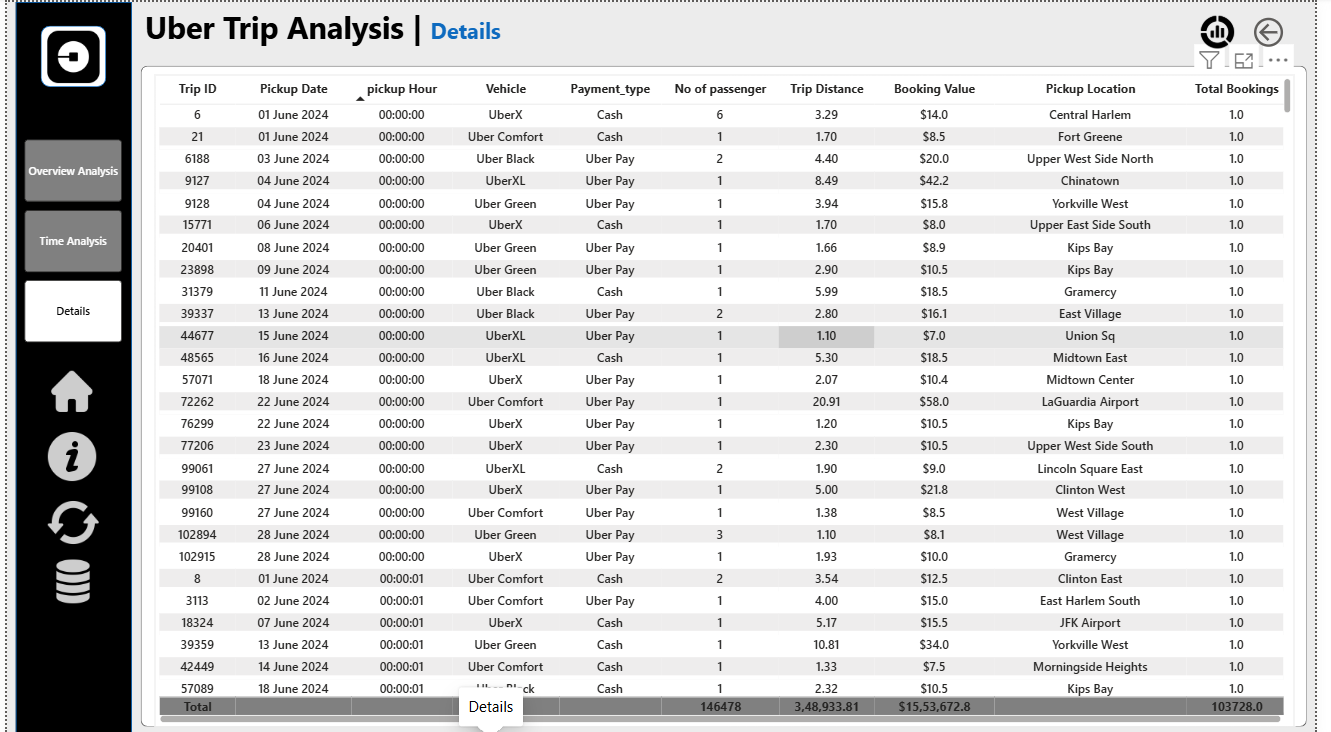

This screenshot's page, from the dashboard's own definition file:
{"tool":"powerbi","page":{"name":"Details","canvas":[1600,900],"ordinal":2},"visuals":[{"type":"shape","box":[10.3,0,142,900.5],"z":0},{"type":"textbox","box":[163.6,0,694,103.9],"z":1000},{"type":"shape","box":[162.9,77.6,1425.9,808.4],"z":2000},{"type":"tableEx","fields":{"Values":["Trip Details.Trip ID","Trip Details.Pickup Date","Trip Details.pickup Hour (HH MM SS)","Trip Details.Vehicle","Trip Details.Payment_type","Sum(Trip Details.passenger_count)","Trip Details.Total Trip Distance Measure","Trip Details.Total Booking Value","Location Table.Location","Trip Details.Total Bookings"]},"box":[180,88.4,1394.9,797.5],"z":3000},{"type":"actionButton","box":[1519,14,68.3,46.5],"z":4000},{"type":"image","box":[1441.4,17.1,77.6,40.3],"z":5000},{"type":"shape","box":[41.3,29,80,74.9],"z":6000},{"type":"image","box":[41.3,35.2,79.5,64.2],"z":7000},{"type":"pageNavigator","box":[21.4,168.1,119.2,249.2],"z":8000},{"type":"image","box":[41.3,450.9,76.4,50.4],"z":8001},{"type":"image","box":[44.3,525.8,70.3,59.6],"z":8002},{"type":"image","box":[44.3,681.7,73.4,53.5],"z":8003},{"type":"image","box":[45.9,605.3,70.3,62.7],"z":8004}]}

Visuals, with their boxes on the page's 1600x900 design canvas (x1, y1, x2, y2). These are canvas units, not pixel positions in the 1331x732 screenshot, which may show the page scaled, cropped or inside an application window:
shape: region(10, 0, 152, 900)
textbox: region(164, 0, 858, 104)
shape: region(163, 78, 1589, 886)
tableEx - Trip Details.Trip ID x Trip Details.Pickup Date: region(180, 88, 1575, 886)
actionButton: region(1519, 14, 1587, 60)
image: region(1441, 17, 1519, 57)
shape: region(41, 29, 121, 104)
image: region(41, 35, 121, 99)
pageNavigator: region(21, 168, 141, 417)
image: region(41, 451, 118, 501)
image: region(44, 526, 115, 585)
image: region(44, 682, 118, 735)
image: region(46, 605, 116, 668)
